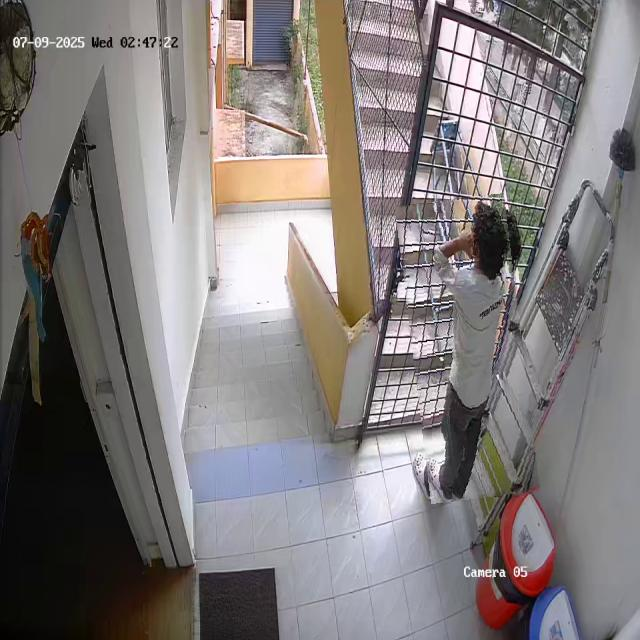person: (404, 196, 532, 502)
